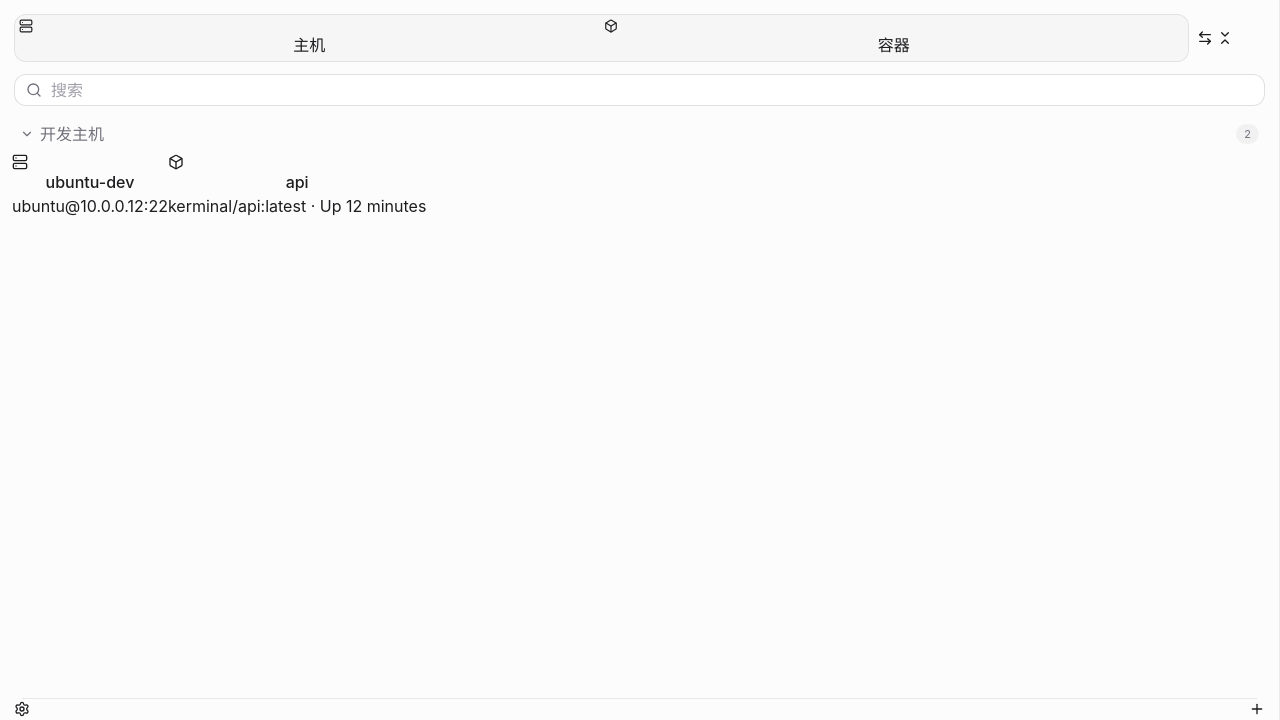
Test: MachineSidebar › offers Docker SFTP without the cross-host transfer tab action
Right-click the button "api kerminal/api:latest · Up 12 minutes" at {"x": 297, "y": 186}, box [168,154,426,218]
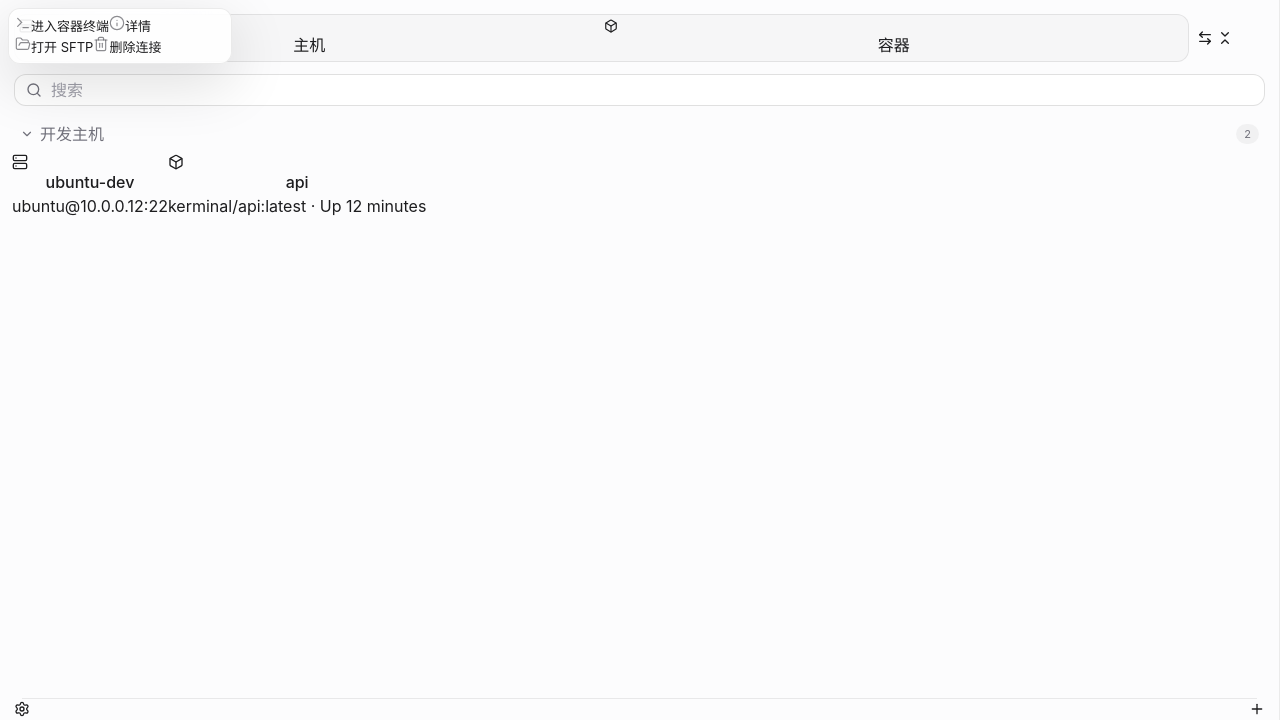
Check: the menu item "详情" is shown, box [109,15,151,36]
Check: the menu item "打开 SFTP" is shown, box [15,36,93,57]
